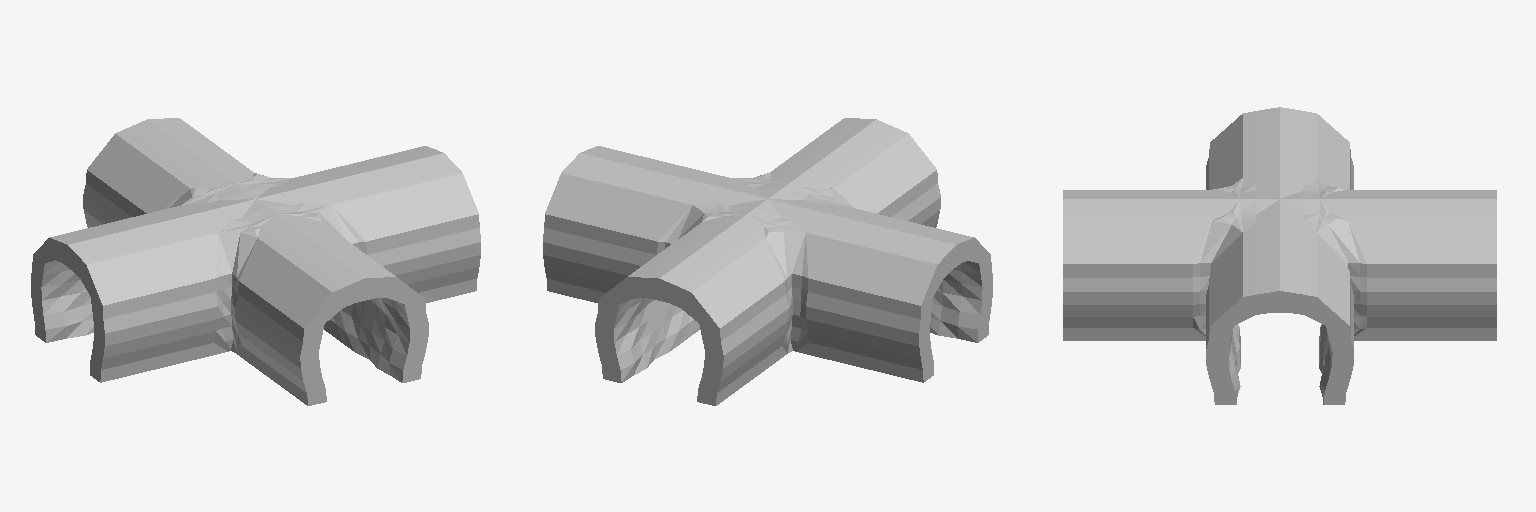
The model's file is model4detailed.obj.
3 views of the same model, side by side, from view 1: azimuth 30°, elevation 25°; view 2: azimuth 150°, elevation 25°; view 3: azimuth 270°, elevation 25° (orthographic).
Parts seen in each view (by area): view 1: Cube.009; view 2: Cube.009; view 3: Cube.009.
Part boxes in pixels (bbox=[...]): Cube.009: bbox=[31, 118, 480, 405]; Cube.009: bbox=[543, 118, 992, 405]; Cube.009: bbox=[1063, 107, 1496, 404].
Bounding box in the file's own units: 20 × 5.81 × 20.